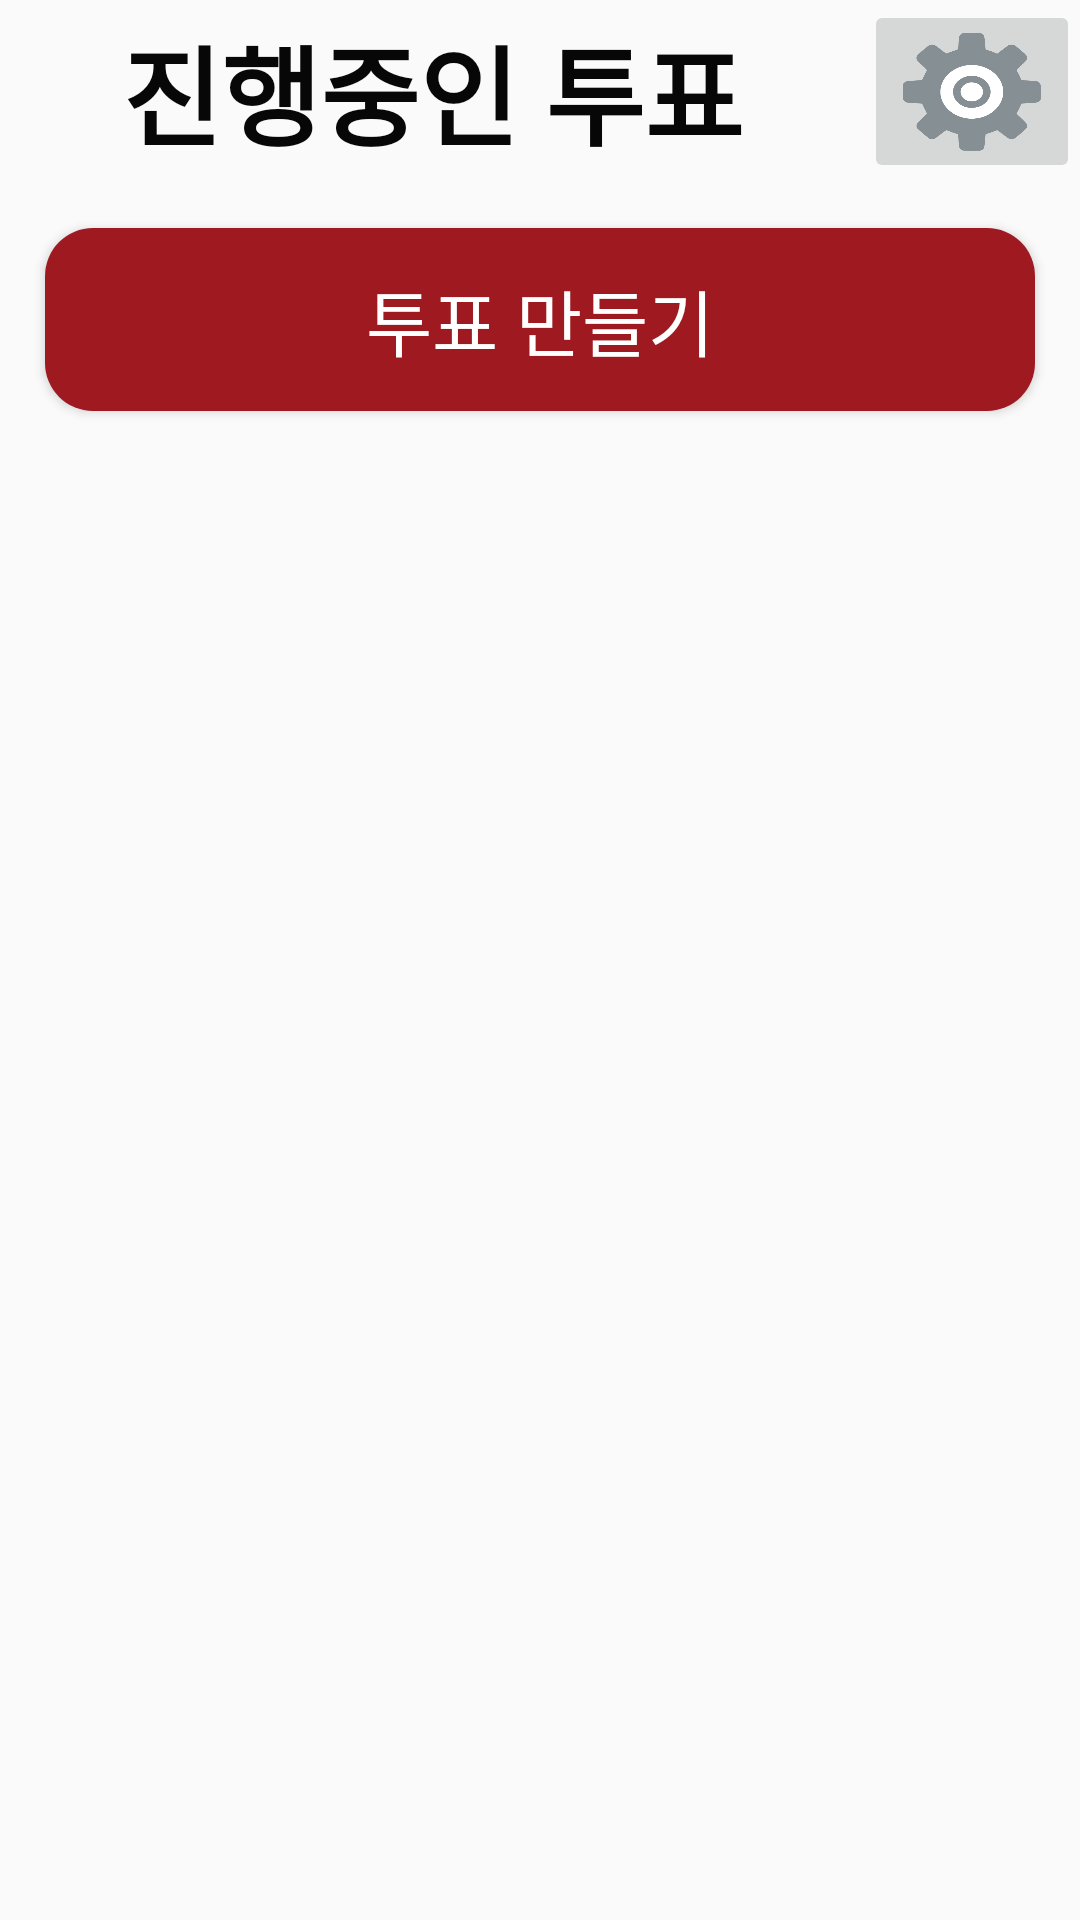

Where icons sit on this 1080x1920 app screen, as [left=x1, top=y1, right=x2, bottom=y2]:
settingicon: [left=876, top=18, right=1068, bottom=165]
